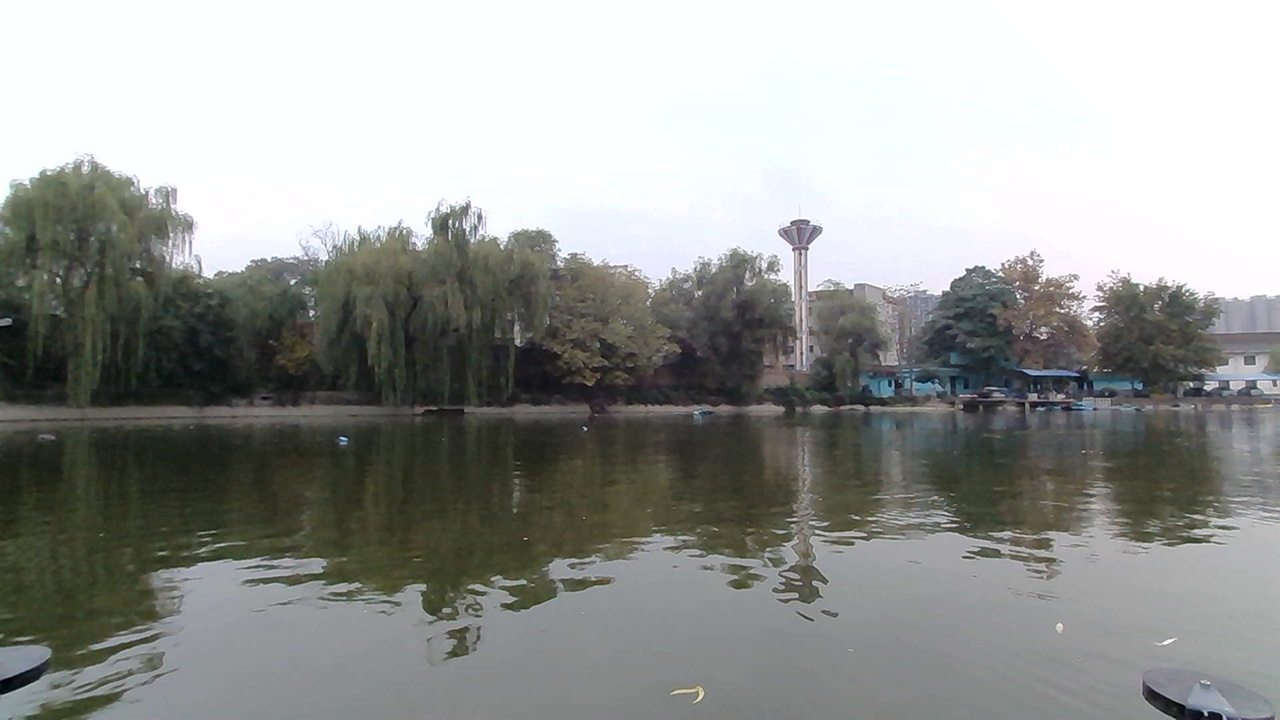bottle: (331, 433, 362, 451)
